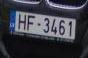1: (67, 20, 73, 37)
3: (42, 17, 50, 34)
4: (50, 18, 58, 35)
6: (57, 19, 66, 36)
F: (27, 14, 35, 32)
H: (17, 13, 27, 31)
